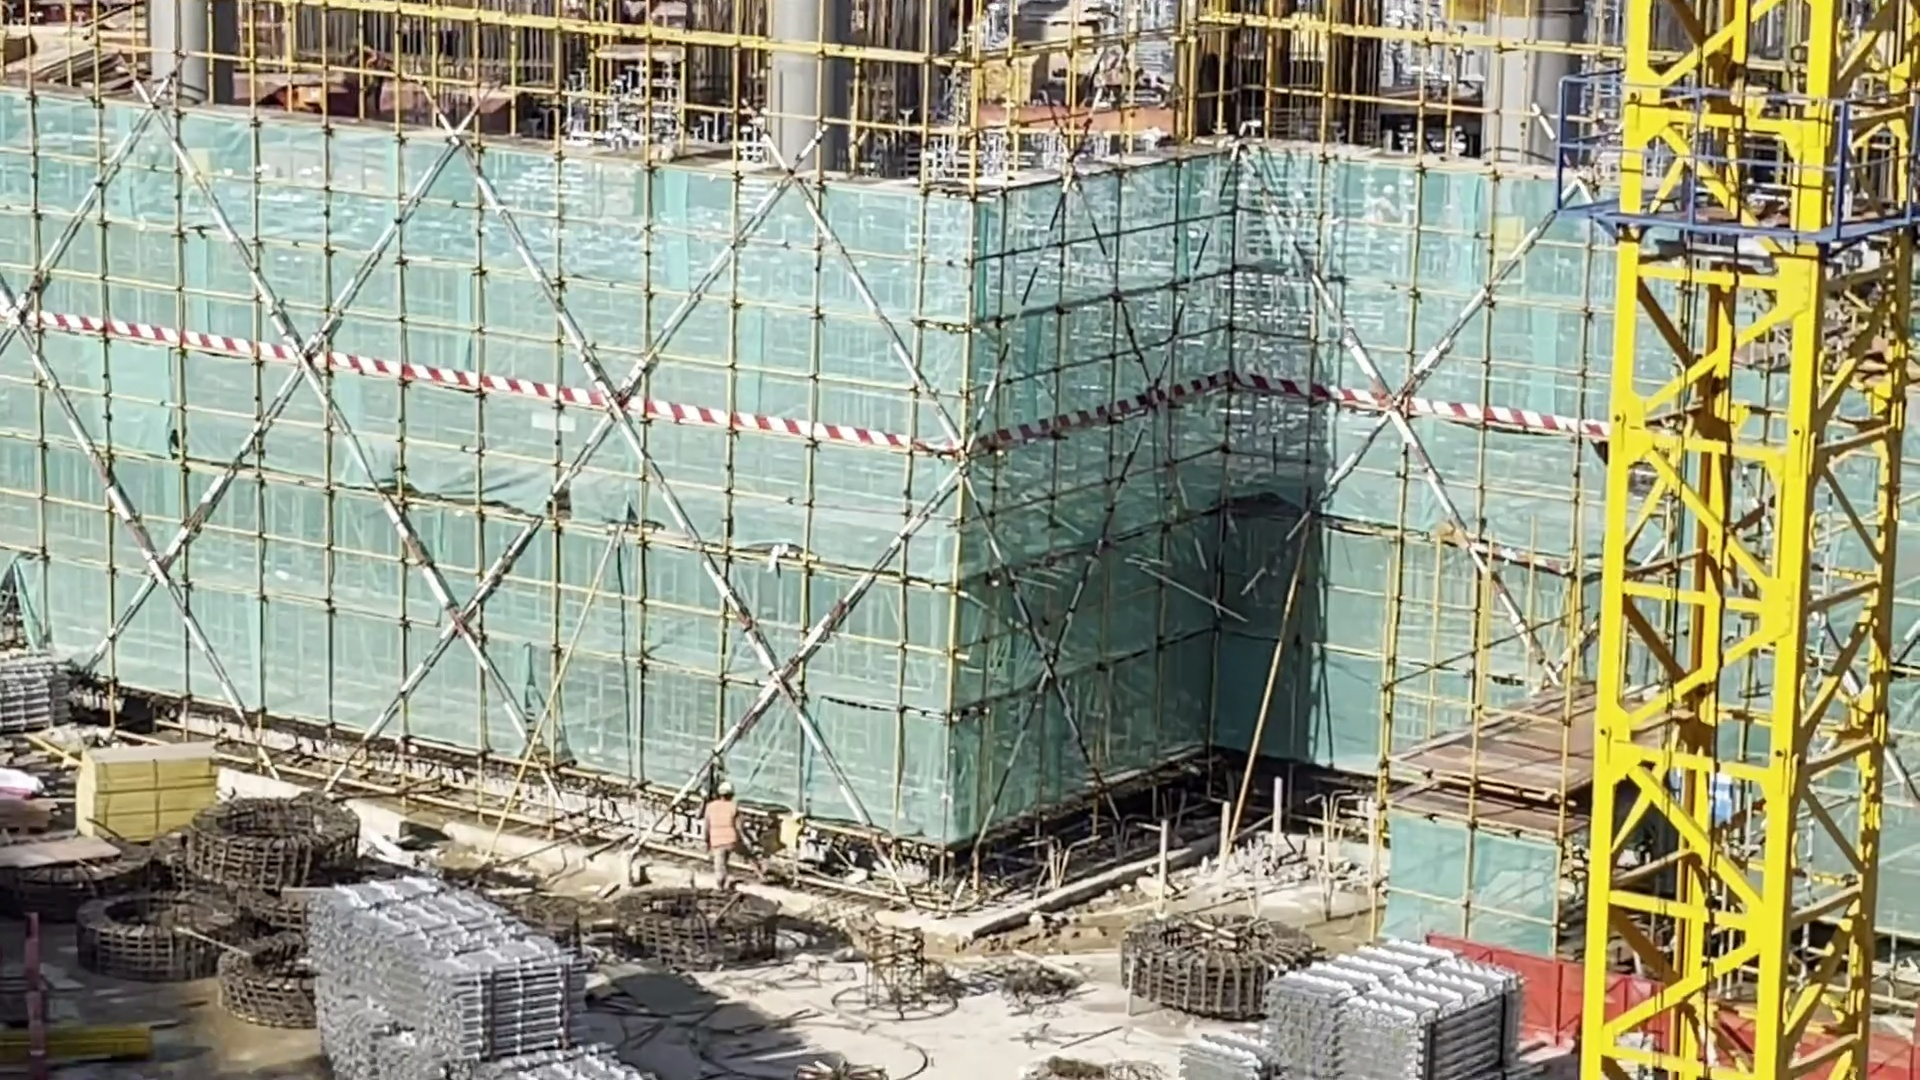board: (69, 741, 217, 849)
fence: (1462, 939, 1596, 1026)
person: (702, 783, 744, 892)
scaffold: (306, 892, 586, 1060), (1255, 945, 1519, 1079), (1, 661, 69, 735)
vest: (709, 796, 736, 854)
